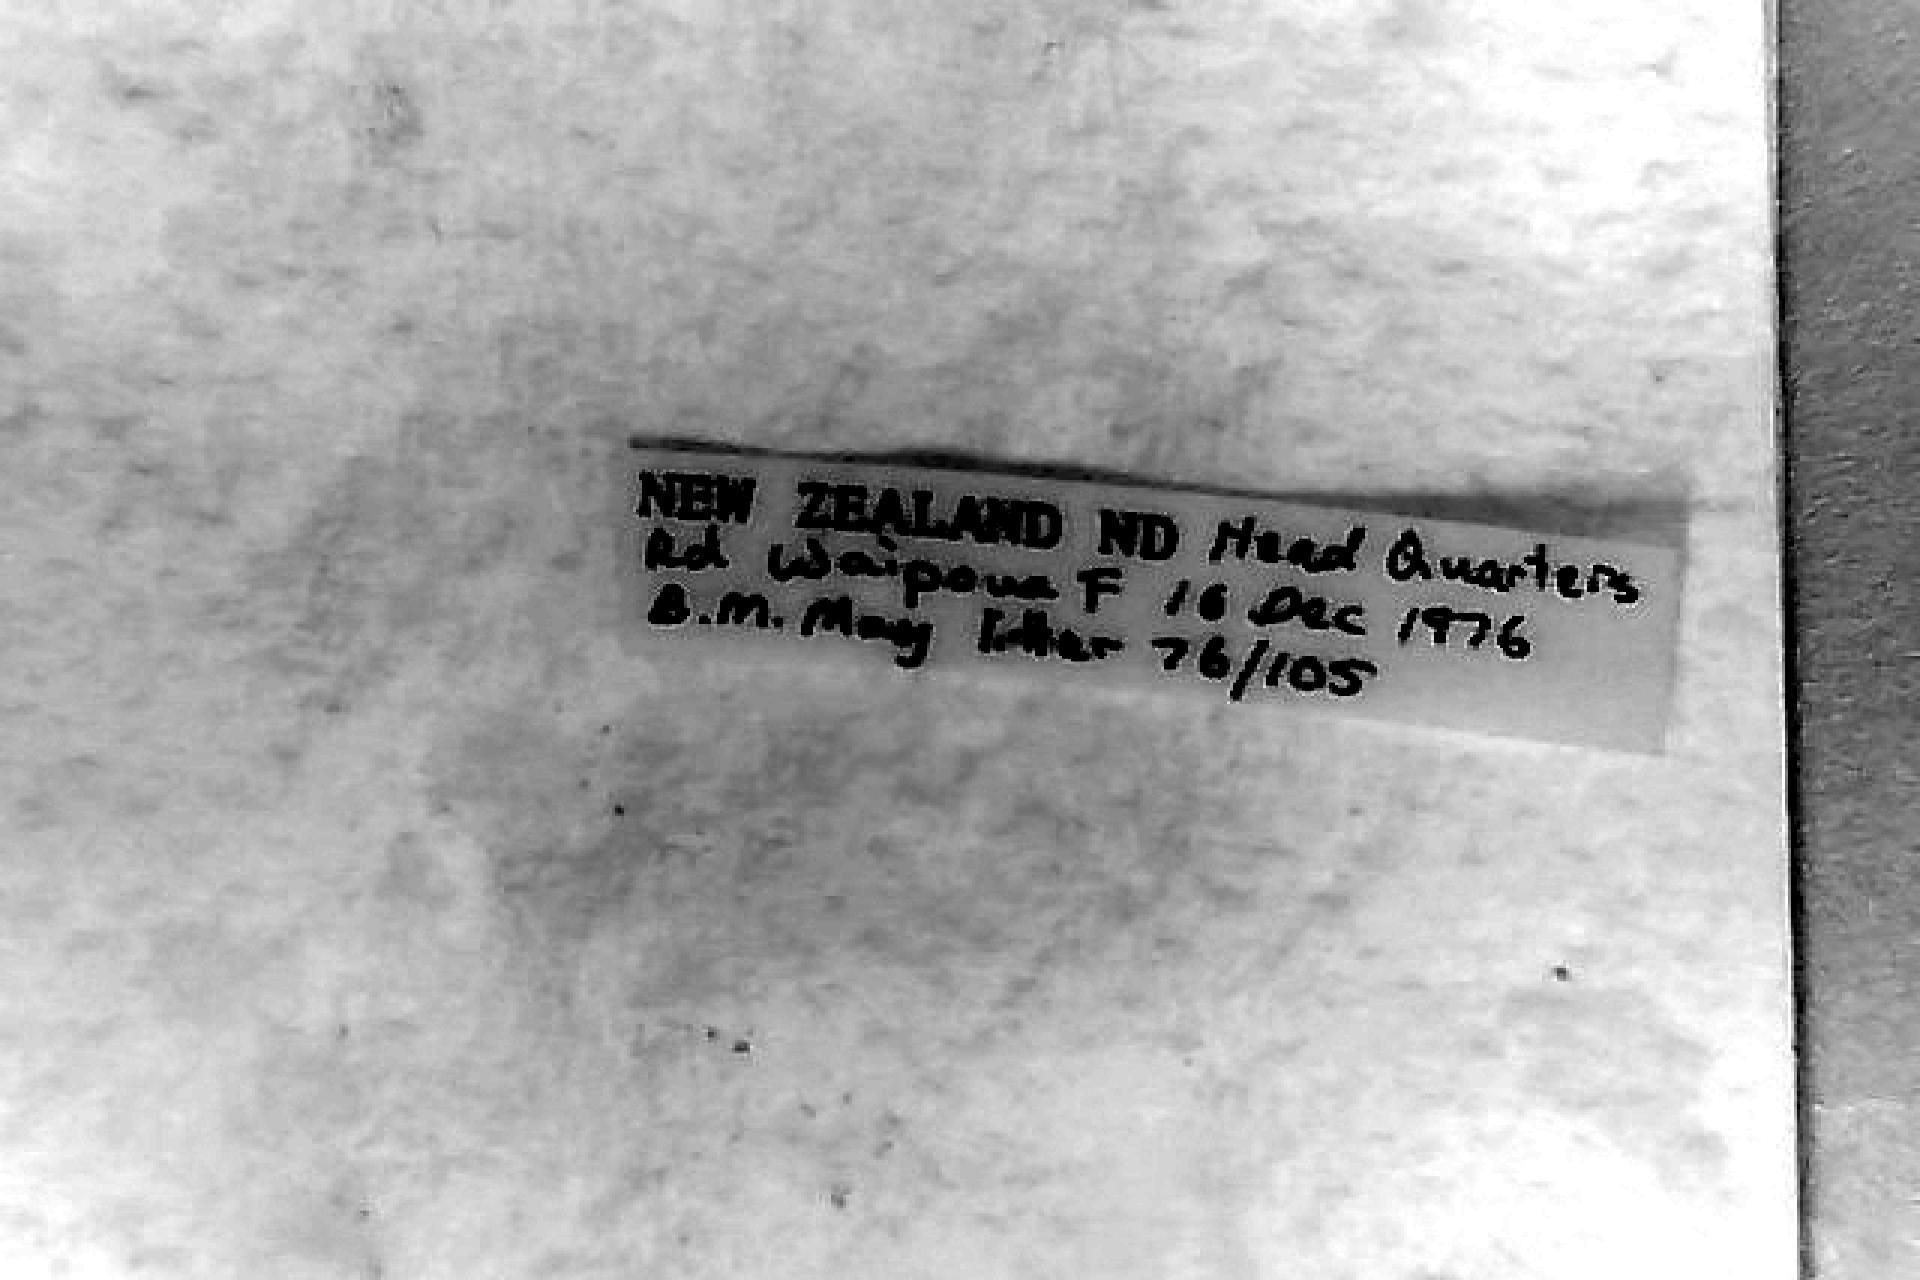mixed_label: (626, 450, 1676, 748)
